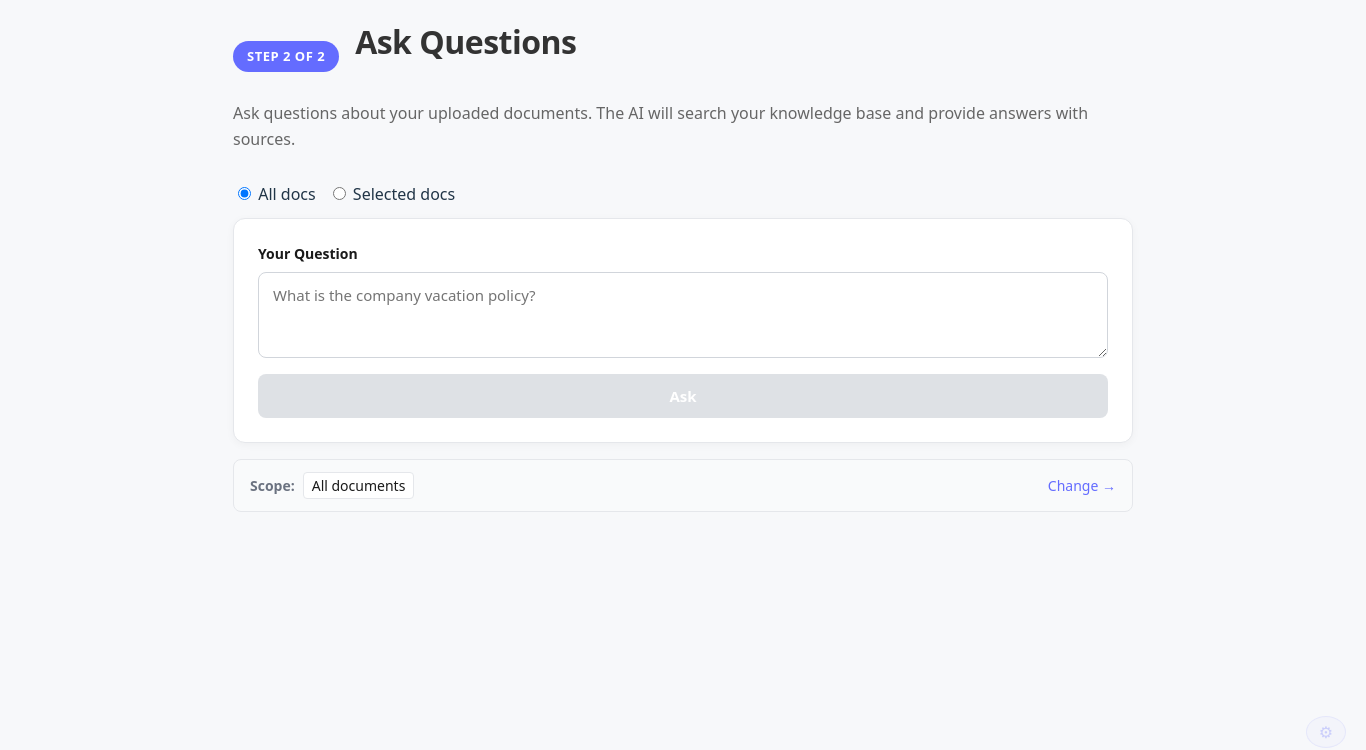
Test: Query SSE behavior › dev success banner when EXTRACTOR_FALLBACK is used
In the text box with placeholder "What is the company vacation policy?": (683, 315) x1=258 y1=272 x2=1108 y2=358, type "Check fallback"
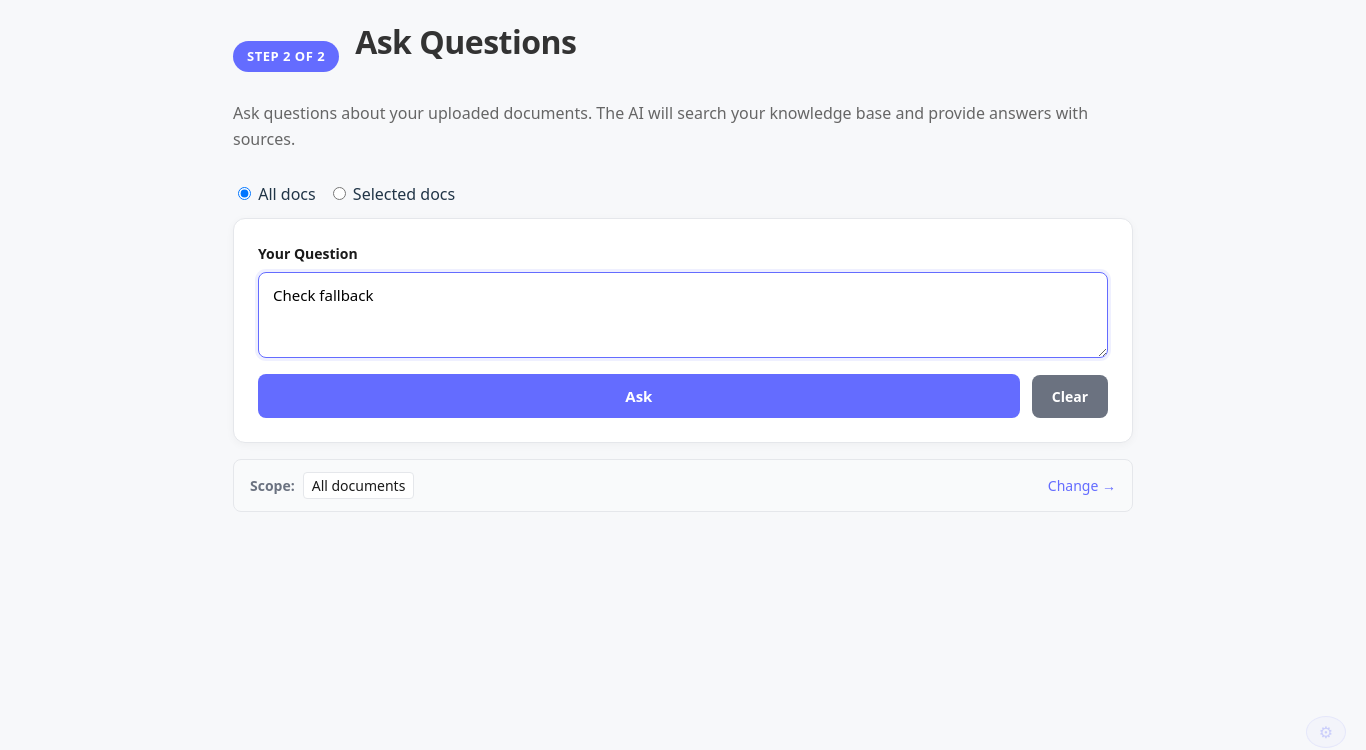
Click the button "Ask": (639, 396) x1=258 y1=374 x2=1020 y2=418
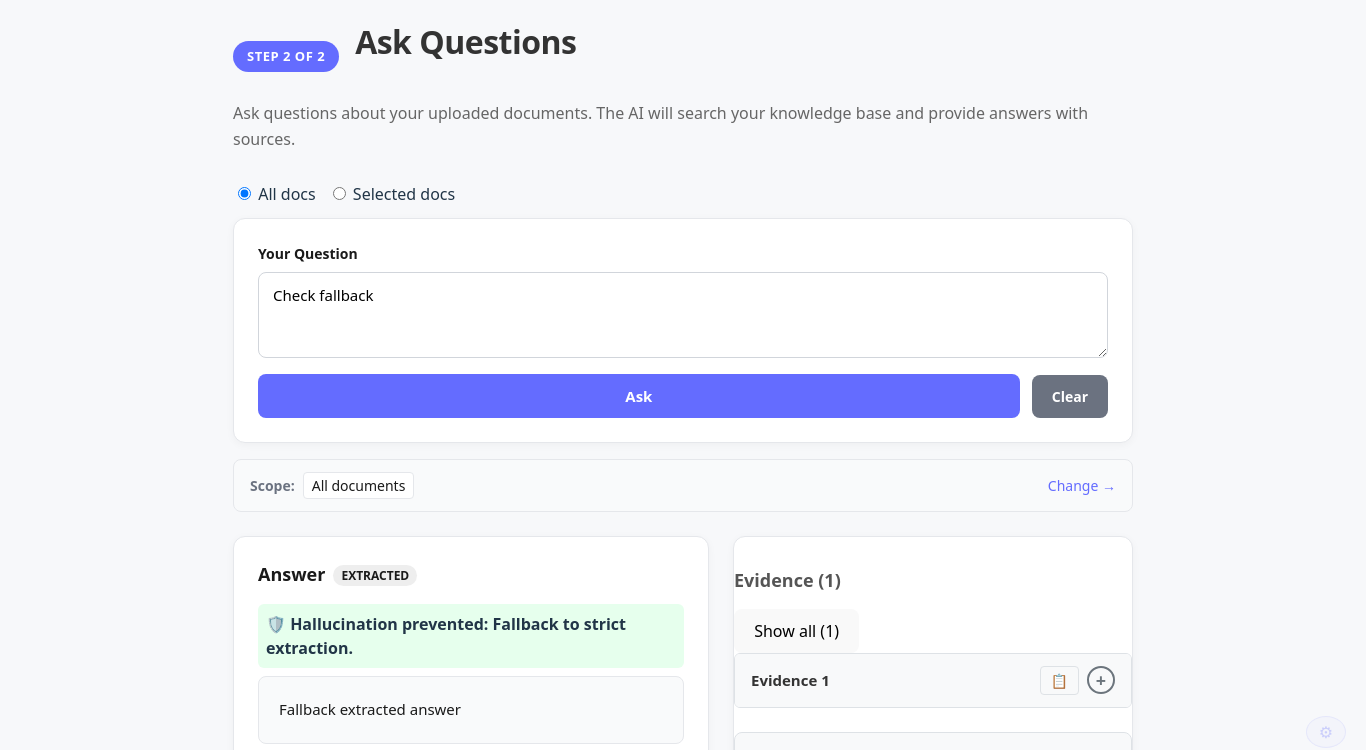
Now the text "🛡️ Hallucination prevented: Fallback to strict extraction." is shown, box x1=266 y1=613 x2=626 y2=659
